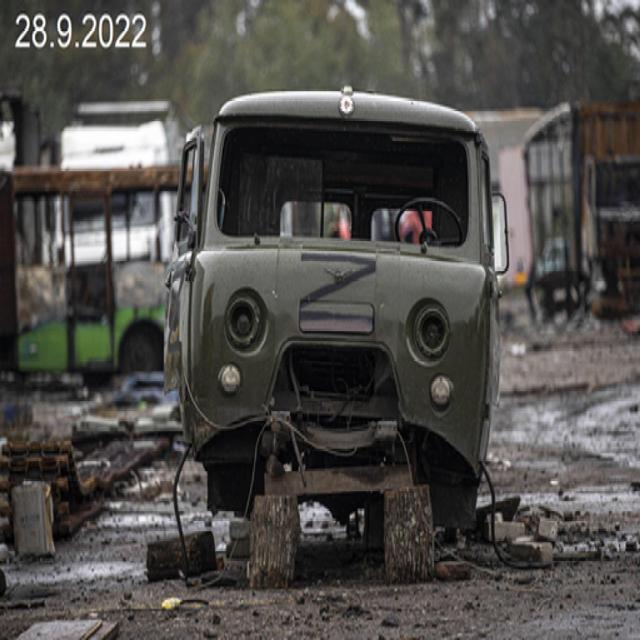CAR: (163, 69, 516, 562)
